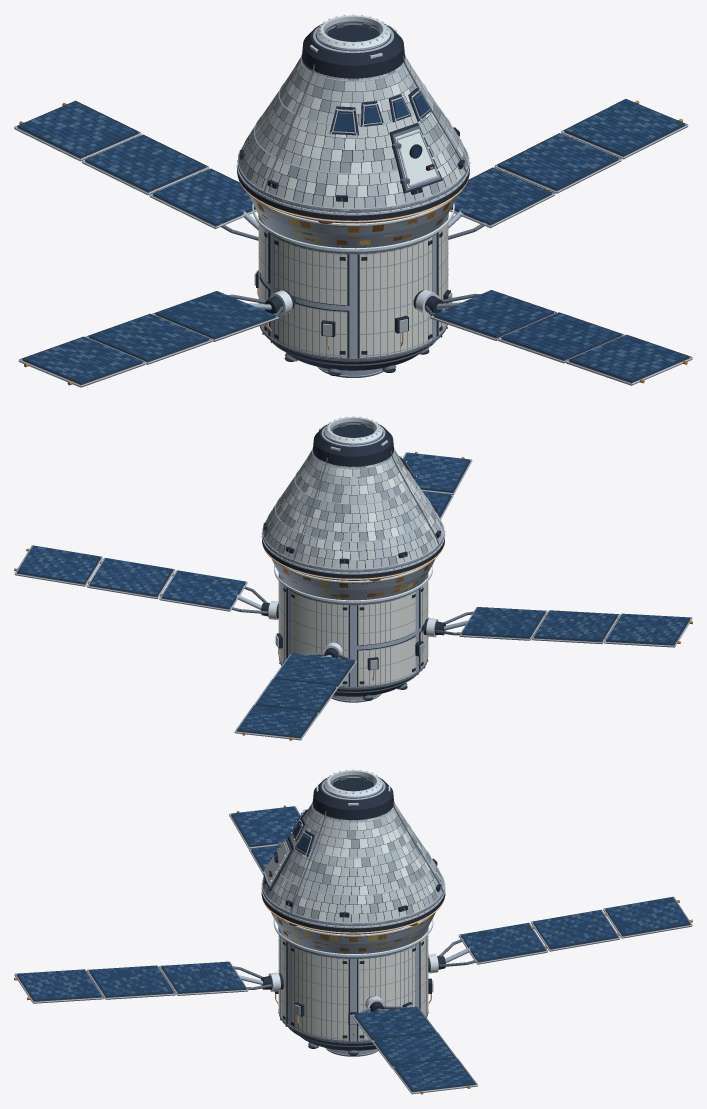
File: orion-flight.glb
3 views of the same model, one above another, from view 1: azimuth 30°, elevation 25°; view 2: azimuth 150°, elevation 25°; view 3: azimuth 270°, elevation 25° (orthographic). The views are drawn at different scales.
Visible parts, largest first — view 1: Alas fotovoltaicas y bisagras, Módulo europeo y paneles radiadores, Carcasa térmica y paneles exteriores, Túnel de acoplamiento y escotilla superior, Escudo térmico y capa de Avcoat, Escotilla lateral y herrajes, Ventanas y cenefas, Base de servicio; view 2: Alas fotovoltaicas y bisagras, Carcasa térmica y paneles exteriores, Módulo europeo y paneles radiadores, Túnel de acoplamiento y escotilla superior, Escudo térmico y capa de Avcoat; view 3: Alas fotovoltaicas y bisagras, Módulo europeo y paneles radiadores, Carcasa térmica y paneles exteriores, Túnel de acoplamiento y escotilla superior, Escudo térmico y capa de Avcoat, Escotilla lateral y herrajes, Ventanas y cenefas.
Boxes of the visible parts, bbox=[...] form: Alas fotovoltaicas y bisagras: bbox=[14, 99, 692, 387]; Módulo europeo y paneles radiadores: bbox=[249, 195, 457, 370]; Carcasa térmica y paneles exteriores: bbox=[238, 54, 468, 210]; Túnel de acoplamiento y escotilla superior: bbox=[302, 14, 404, 79]; Escudo térmico y capa de Avcoat: bbox=[236, 145, 470, 224]; Escotilla lateral y herrajes: bbox=[238, 122, 464, 201]; Ventanas y cenefas: bbox=[329, 88, 433, 135]; Base de servicio: bbox=[284, 348, 429, 377]; Alas fotovoltaicas y bisagras: bbox=[14, 451, 692, 740]; Carcasa térmica y paneles exteriores: bbox=[262, 448, 444, 570]; Módulo europeo y paneles radiadores: bbox=[271, 558, 435, 696]; Túnel de acoplamiento y escotilla superior: bbox=[313, 416, 393, 467]; Escudo térmico y capa de Avcoat: bbox=[261, 519, 445, 581]; Alas fotovoltaicas y bisagras: bbox=[14, 805, 692, 1094]; Módulo europeo y paneles radiadores: bbox=[271, 912, 435, 1050]; Carcasa térmica y paneles exteriores: bbox=[262, 801, 444, 924]; Túnel de acoplamiento y escotilla superior: bbox=[312, 769, 394, 821]; Escudo térmico y capa de Avcoat: bbox=[261, 880, 445, 933]; Escotilla lateral y herrajes: bbox=[262, 836, 441, 917]; Ventanas y cenefas: bbox=[291, 809, 314, 856].
Bounding box in the file's own units: 18.74 × 8.02 × 18.74.
